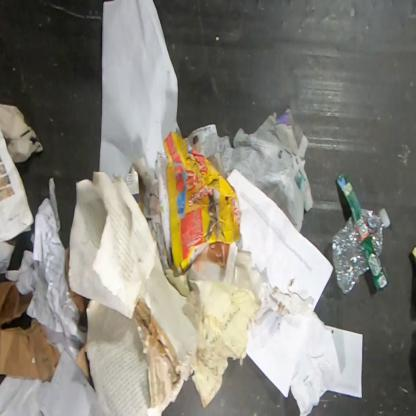cardboard: (164, 132, 241, 276), (0, 275, 61, 382), (70, 291, 89, 321), (65, 247, 70, 292)
rigid_plastic: (332, 172, 391, 294)
